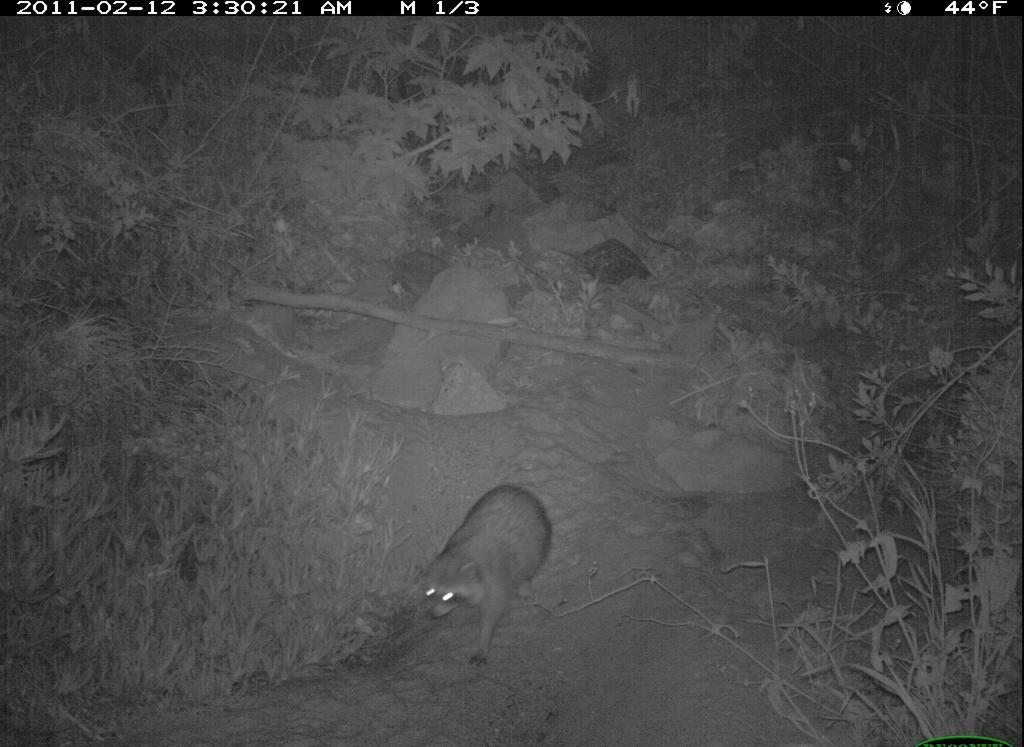raccoon: (401, 477, 560, 681)
